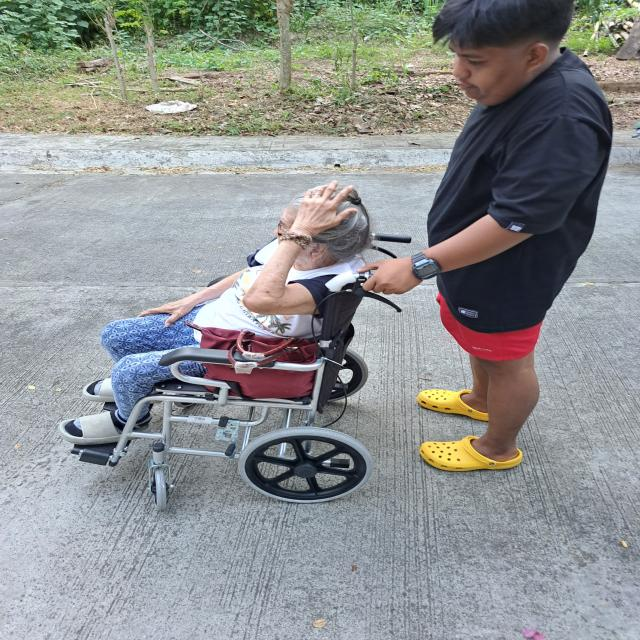wheelchairs: (70, 226, 427, 516)
